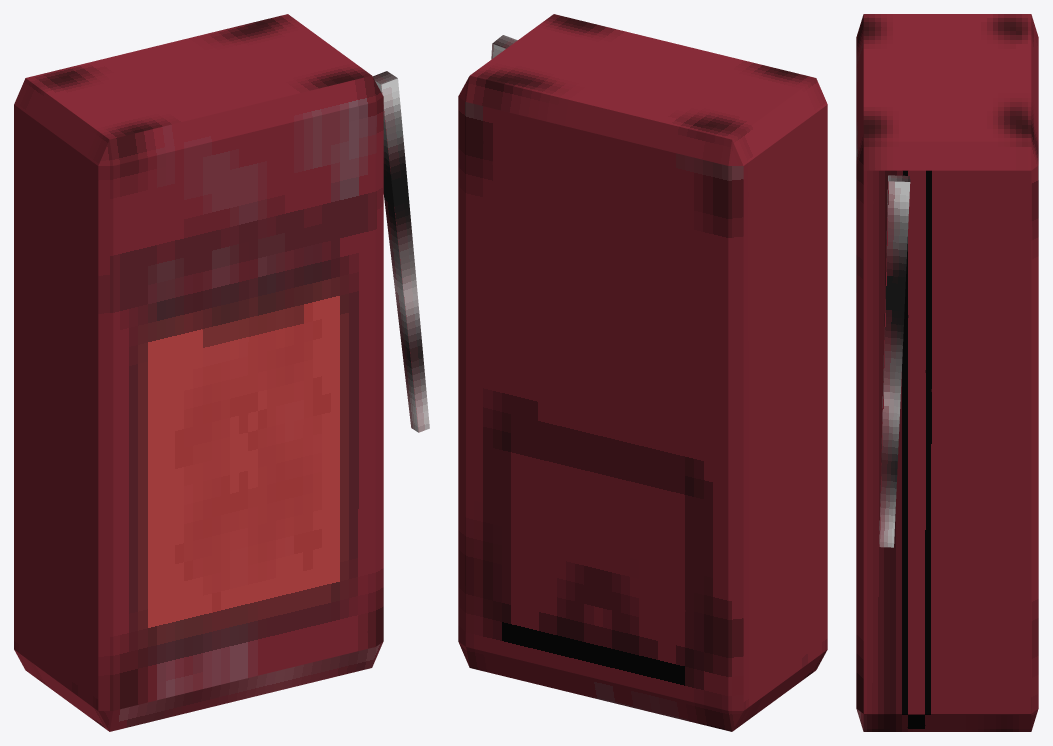
File: Radio.glb
The picture shows the model from 3 angles, left to right: view 1: azimuth 30°, elevation 25°; view 2: azimuth 150°, elevation 25°; view 3: azimuth 270°, elevation 25°; orthographic projection.
Parts seen in each view (by area): view 1: Radio; view 2: Radio; view 3: Radio.
Part boxes in pixels (bbox=[...]): Radio: bbox=[14, 14, 429, 731]; Radio: bbox=[458, 14, 827, 731]; Radio: bbox=[856, 14, 1038, 731].
Size of the model in its own units: 0.0914 by 0.1524 by 0.0427.
Materials: 1 (1 with a texture image).
